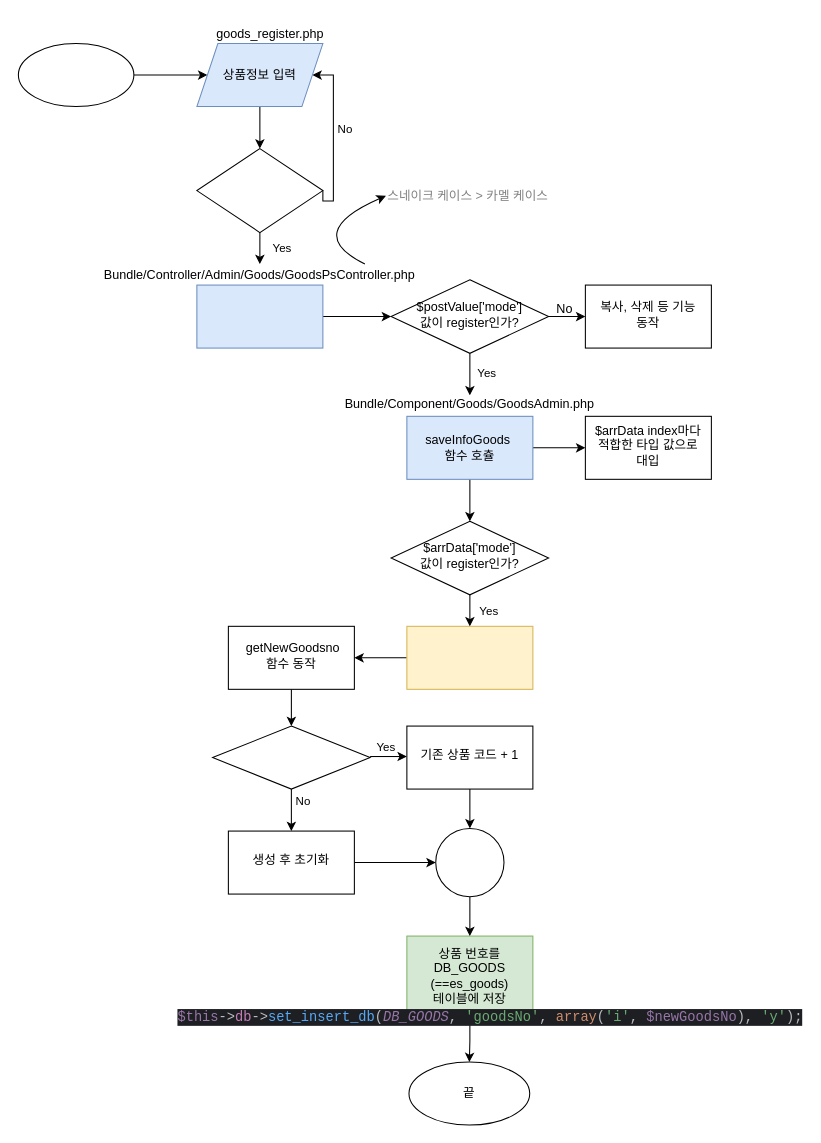
Some shapes in this 821 by 1143 pixel diagram are drawn without their labels. Each missing label, with the centre of its shape:
"getGoodsInfo를 통해 가져온 상품번호 값이 존재하는가?" goes at point (291, 757).
"goodsNo 처리를 위한 doGoodsNoInsert 함수 동작" goes at point (469, 657).
"GoodsPsController 호츌" goes at point (259, 316).
"newGoodsNo 반환" goes at point (469, 862).
"각 input 값이 조건에 맞는가?" goes at point (259, 190).
"시작" goes at point (75, 75).
